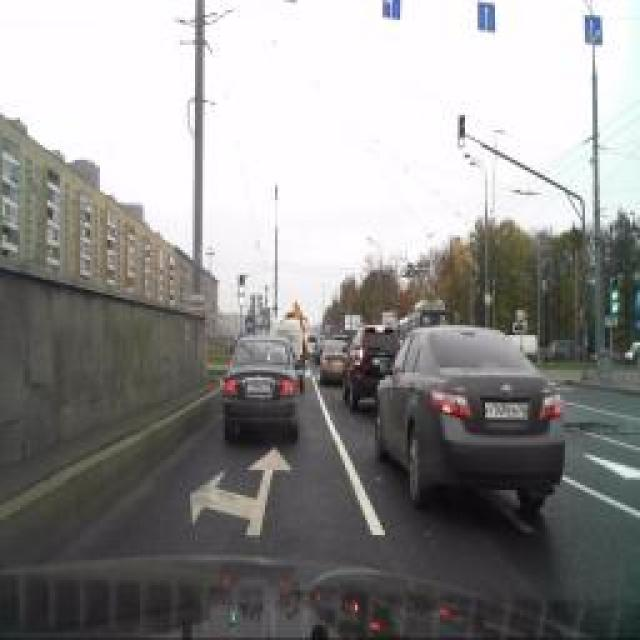sign: (245, 315, 255, 333)
